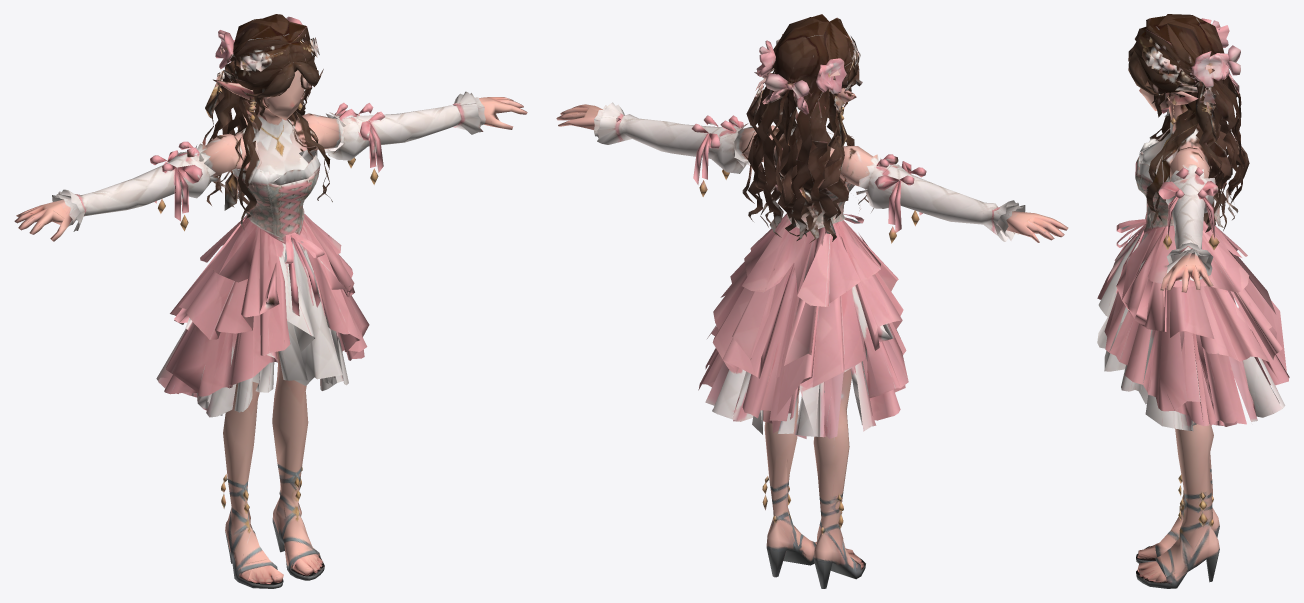
Rendered from Meshy_AI_Low_Poly_Pink_Elf_Gir_1018163008_texture.fbx.
3 renders of one model, left to right at view 1: azimuth 30°, elevation 25°; view 2: azimuth 150°, elevation 25°; view 3: azimuth 270°, elevation 25°, orthographic.
Parts seen in each view (by area): view 1: Mesh_0; view 2: Mesh_0; view 3: Mesh_0.
Boxes of the visible parts, left/top/right/bottom form: Mesh_0: left=14, top=14, right=527, bottom=588; Mesh_0: left=556, top=14, right=1068, bottom=588; Mesh_0: left=1097, top=14, right=1289, bottom=588.
Bounding box in the file's own units: 91.46 × 95.21 × 30.18.
Materials: 1 (1 with a texture image).
